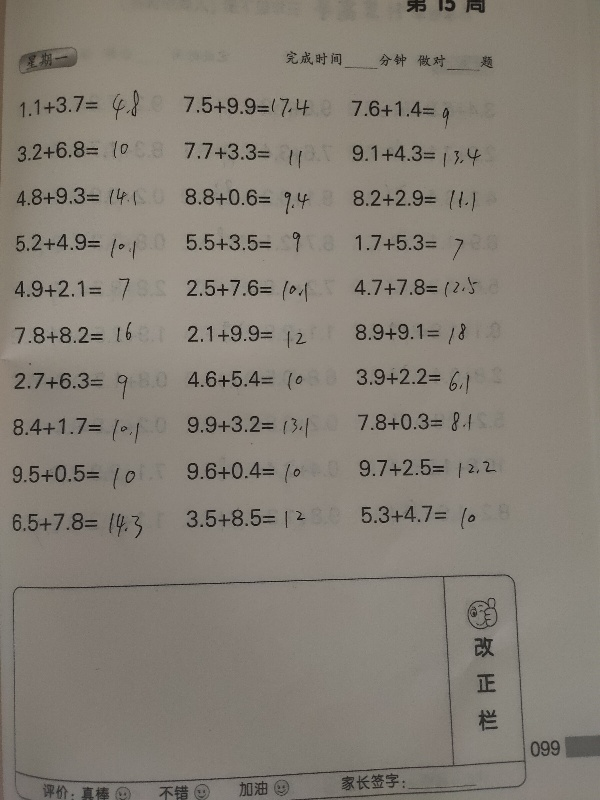equation: (4, 411, 145, 447), (349, 361, 479, 399), (344, 91, 473, 129), (13, 227, 147, 263), (11, 88, 149, 121), (340, 139, 491, 169), (9, 368, 140, 401), (8, 507, 146, 538), (181, 456, 312, 488), (9, 320, 139, 352), (179, 183, 320, 212), (352, 227, 477, 259), (8, 460, 139, 490), (355, 454, 498, 481), (11, 273, 135, 304), (177, 228, 313, 256), (183, 413, 319, 441), (348, 272, 485, 299), (184, 320, 310, 349), (349, 184, 479, 212), (180, 93, 312, 120), (8, 137, 140, 164), (357, 501, 478, 530), (180, 138, 305, 166), (183, 275, 312, 302), (183, 505, 309, 532), (12, 183, 140, 209), (351, 319, 469, 347), (183, 367, 306, 392), (349, 412, 488, 432)
